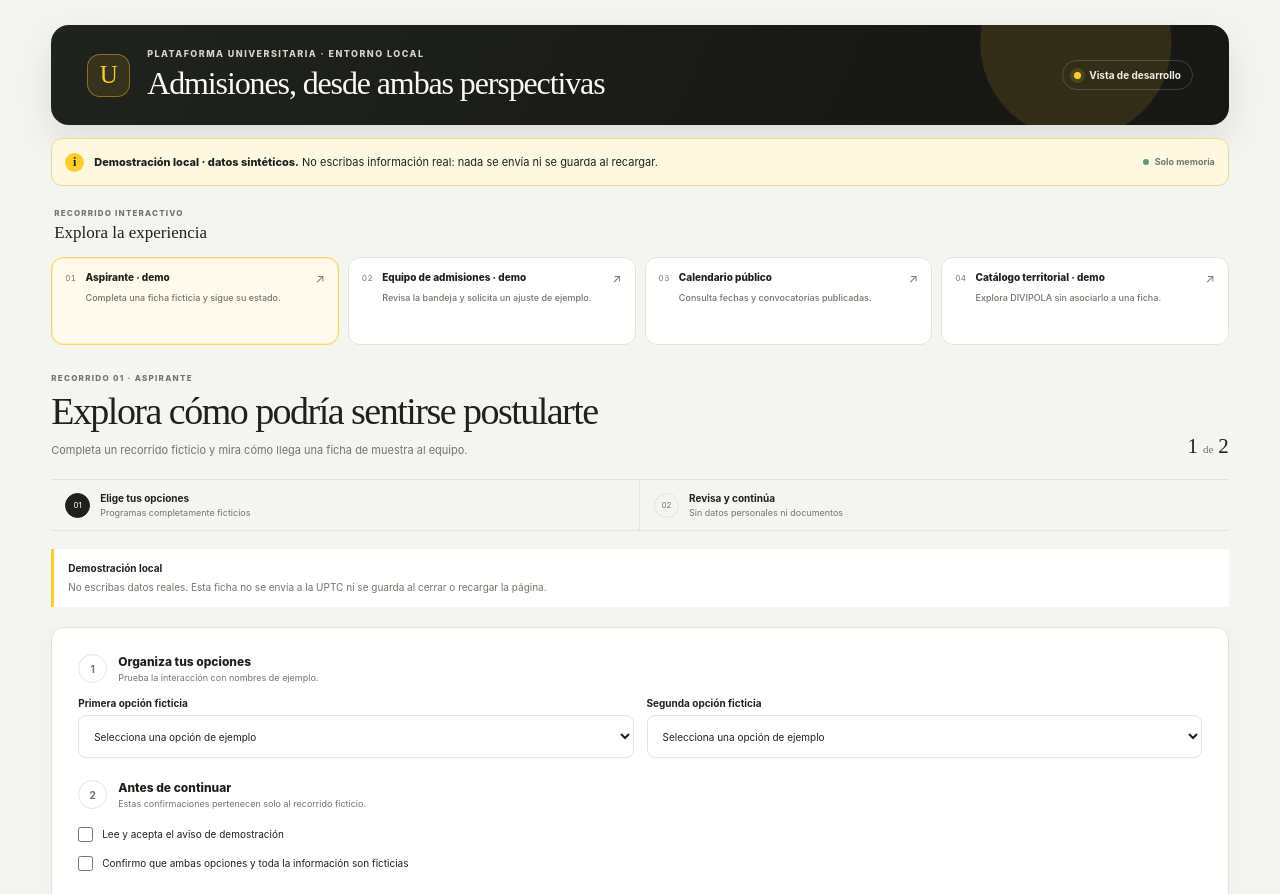
Test case: AdmissionsWorkflowLab › starts in the applicant demo and keeps a created synthetic case available to the admin view
Select "Programa ficticio A" in the dropdown labelled "Primera opción ficticia" at {"x": 356, "y": 737}, box [78,715,634,758]
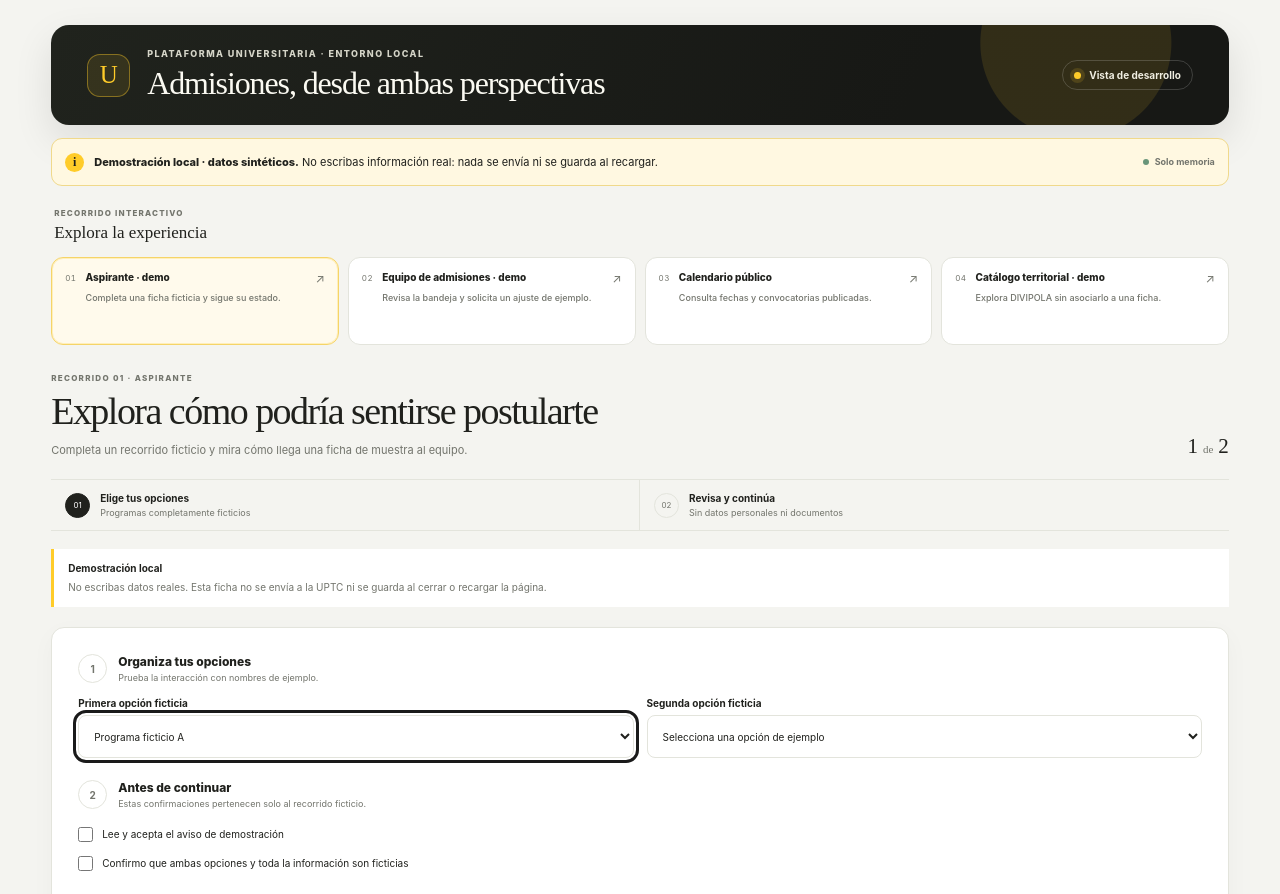
Select "Programa ficticio B" in the dropdown labelled "Segunda opción ficticia" at {"x": 924, "y": 737}, box [646,715,1202,758]
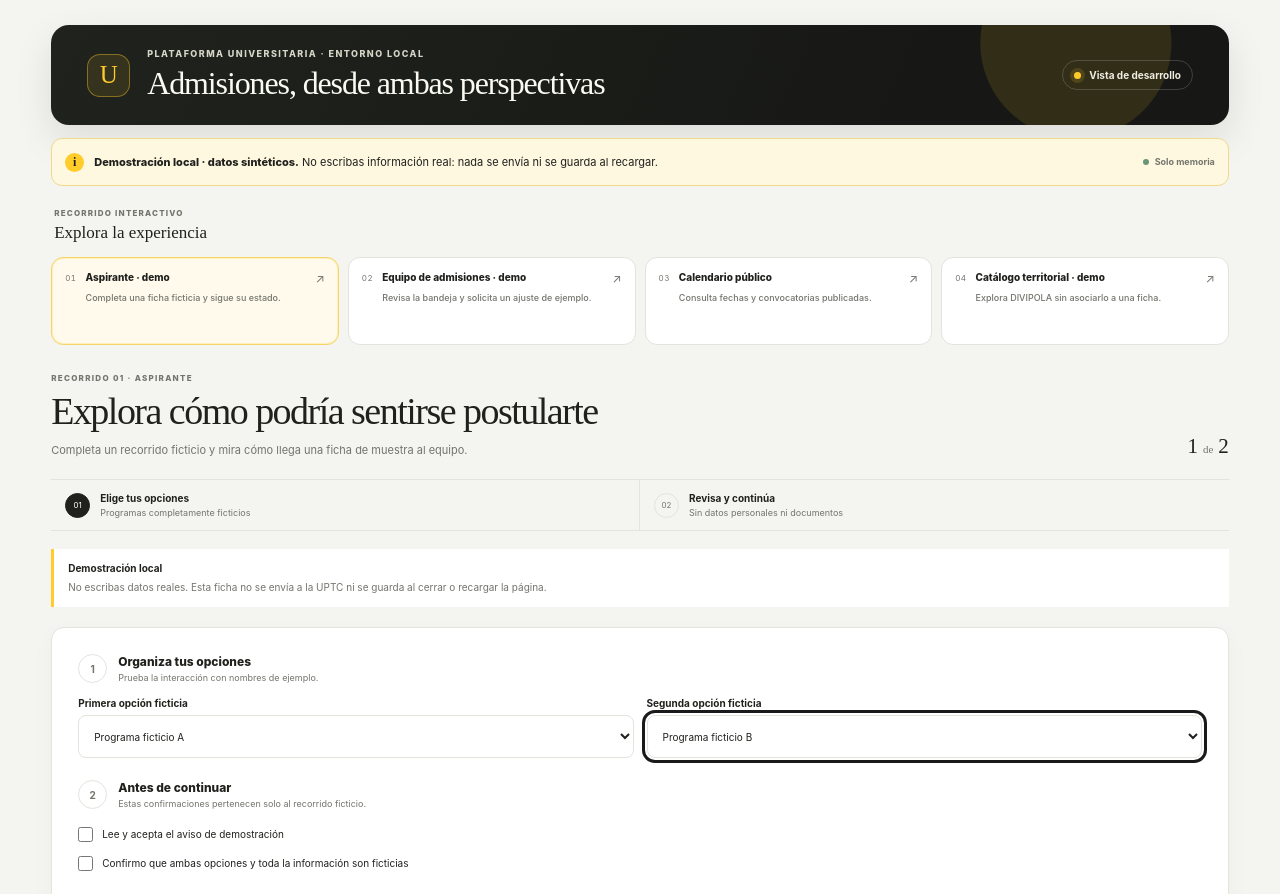
Click the checkbox labelled "Lee y acepta el aviso de demostración" at {"x": 86, "y": 835}, box [78,827,93,842]
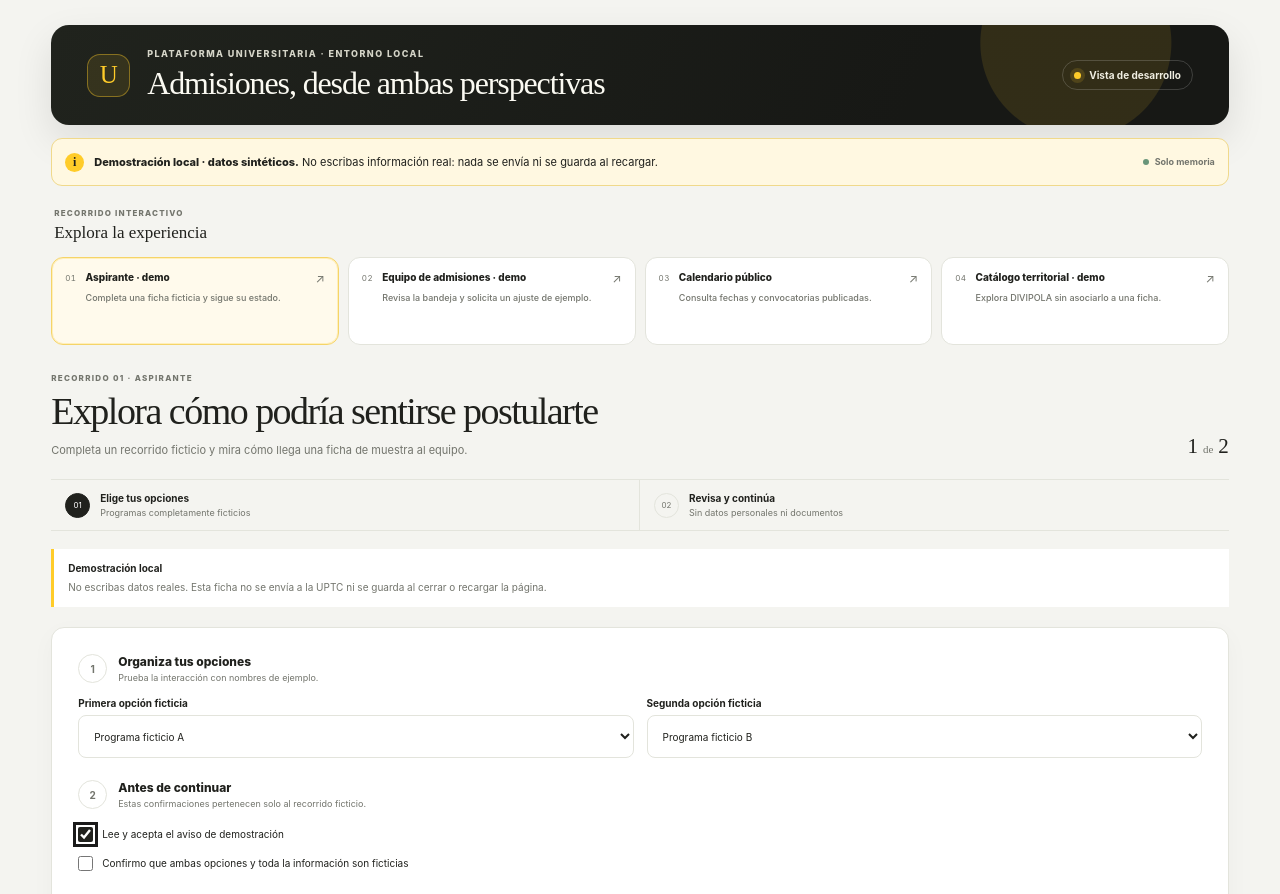
Click the checkbox labelled "Confirmo que ambas opciones" at {"x": 86, "y": 864}, box [78,856,93,871]
(page scrolled)
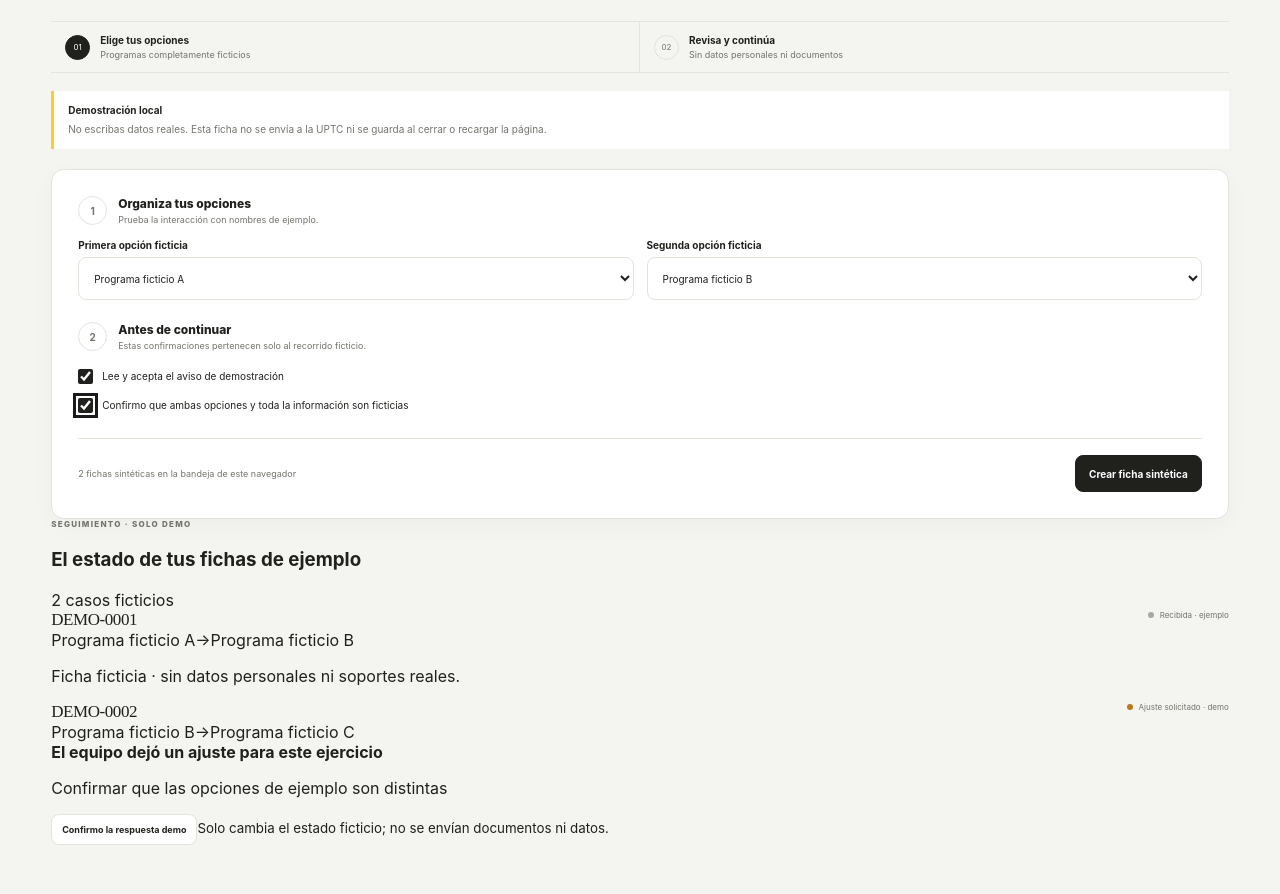
Click the button "Crear ficha sintética" at {"x": 1138, "y": 474}, box [1075,455,1202,492]
(page scrolled)
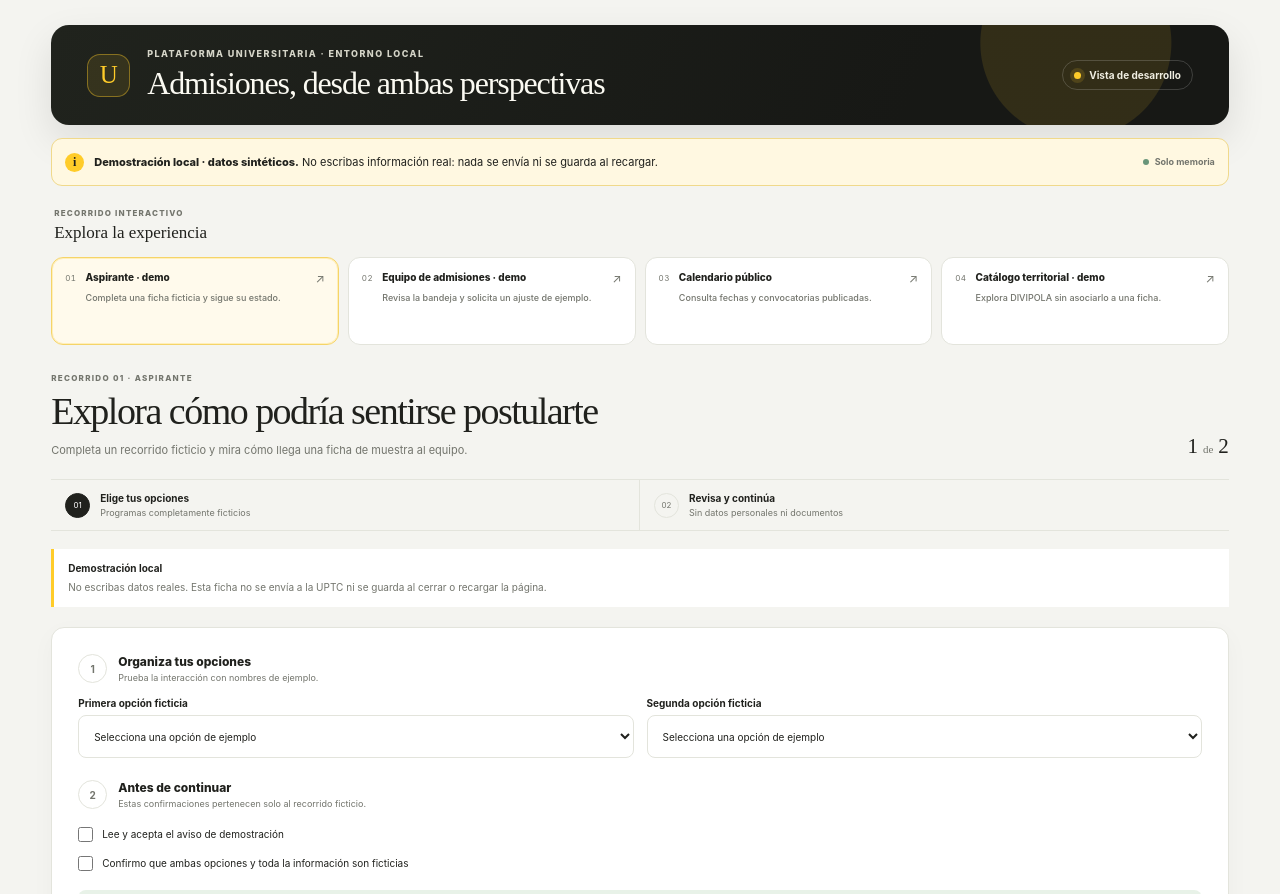
Click the tab "Equipo de admisiones" at {"x": 492, "y": 301}, box [348,257,636,345]
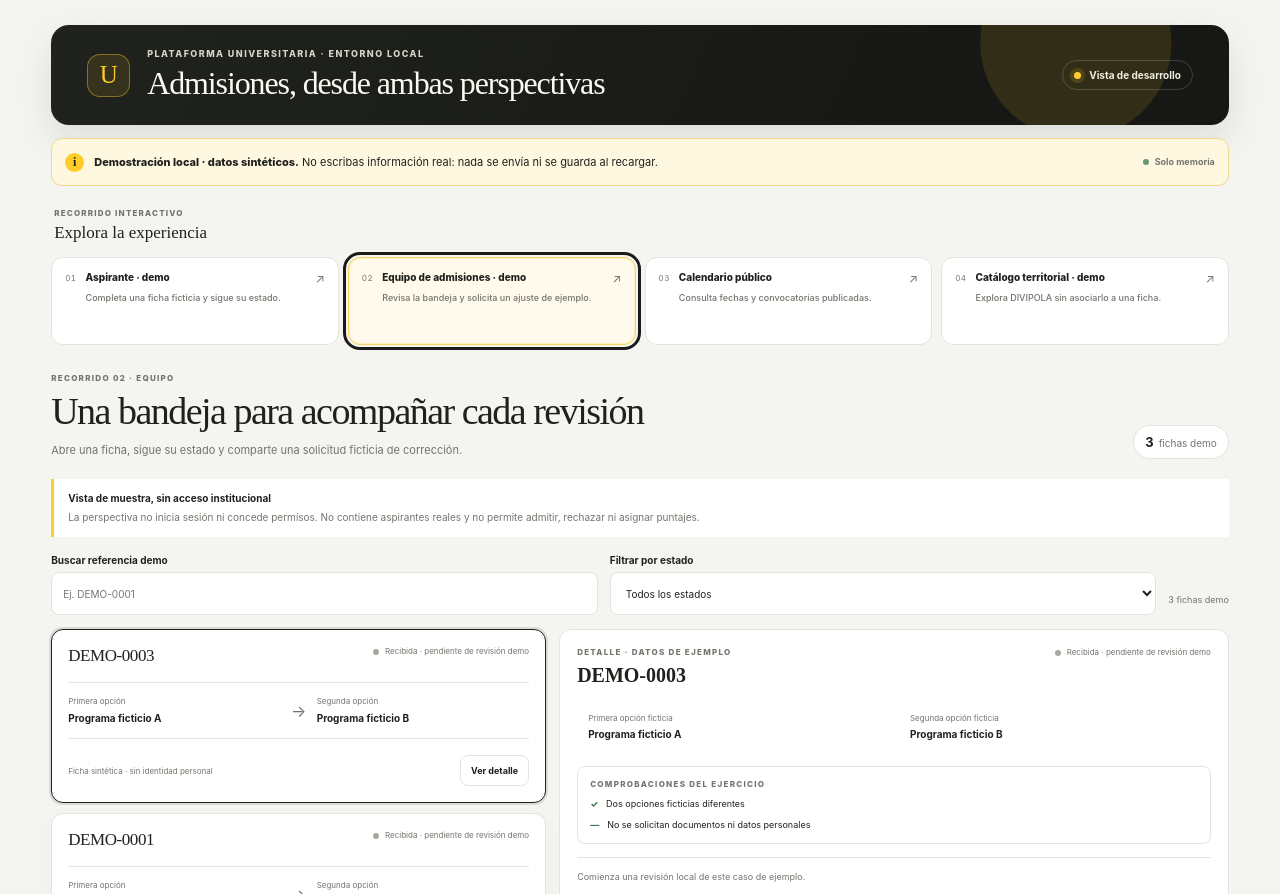
Expected: the text "Demostración local · datos sintéticos." is shown, [94,155,299,169]
Expected: the element named "ficha demo-0003" is shown, [51,629,546,803]
